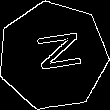N_W: (24, 32, 82, 80)
